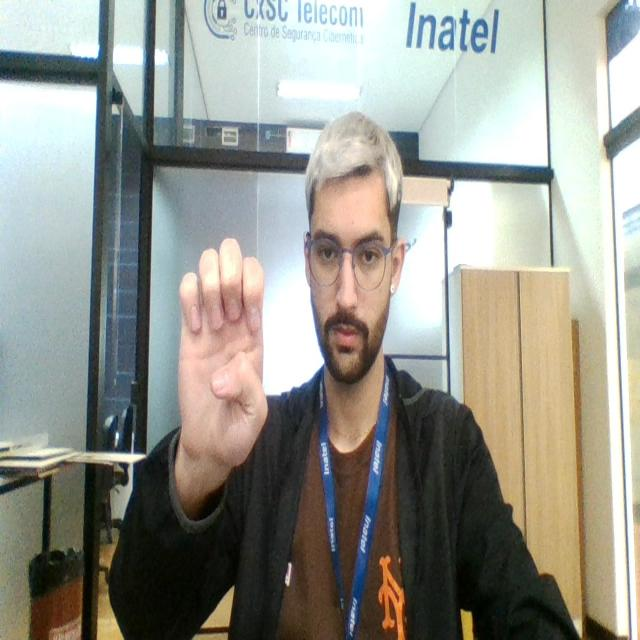E: (172, 234, 272, 476)
